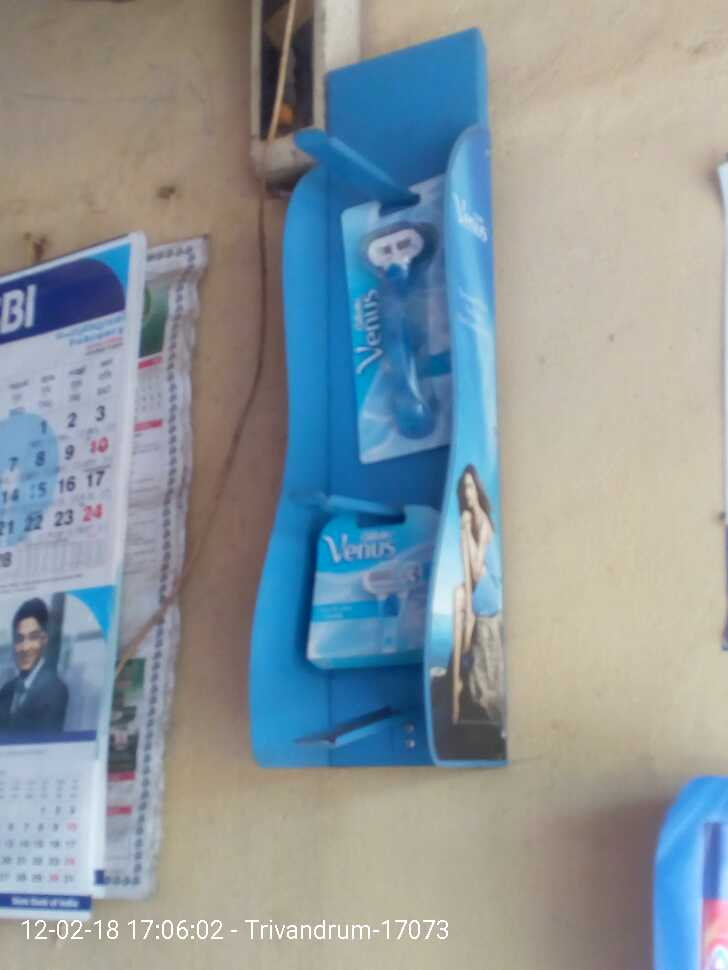beauty: (336, 198, 463, 468), (301, 503, 448, 654)
